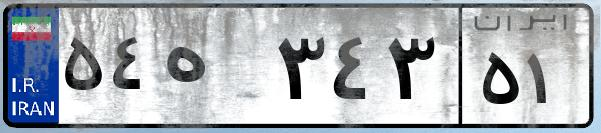1: (525, 38, 570, 115)
3: (270, 28, 330, 110), (385, 28, 445, 110)
4: (330, 28, 385, 110), (110, 28, 158, 98)
5: (57, 26, 110, 100), (475, 38, 525, 113)
ه: (158, 20, 270, 120)
